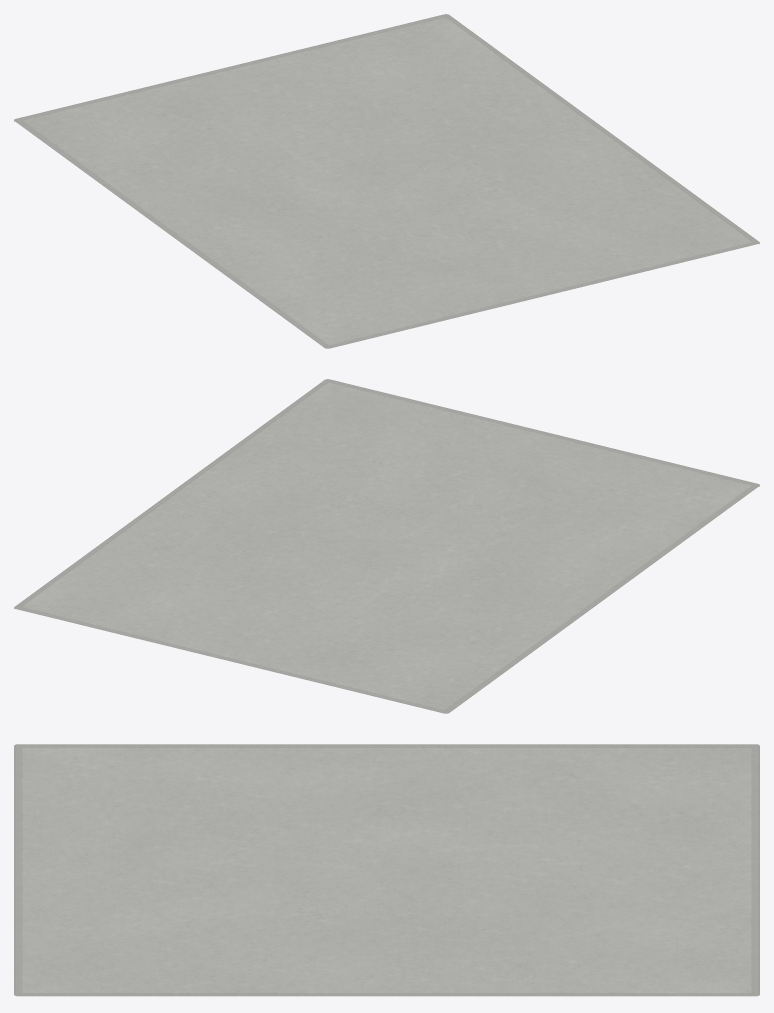
The model's file is gray_L.glb.
3 views of the same model, one above another, from view 1: azimuth 30°, elevation 25°; view 2: azimuth 150°, elevation 25°; view 3: azimuth 270°, elevation 25° (orthographic). The views are drawn at different scales.
Visible parts, largest first — view 1: reliv_gray_L; view 2: reliv_gray_L; view 3: reliv_gray_L.
Boxes of the visible parts, x1,y1,x2,y2 form: reliv_gray_L: (14, 14, 759, 348); reliv_gray_L: (14, 379, 759, 713); reliv_gray_L: (14, 744, 759, 996).
Size of the model in its own units: 2 by 0.009 by 2.5.
2 materials, 1 textured.
